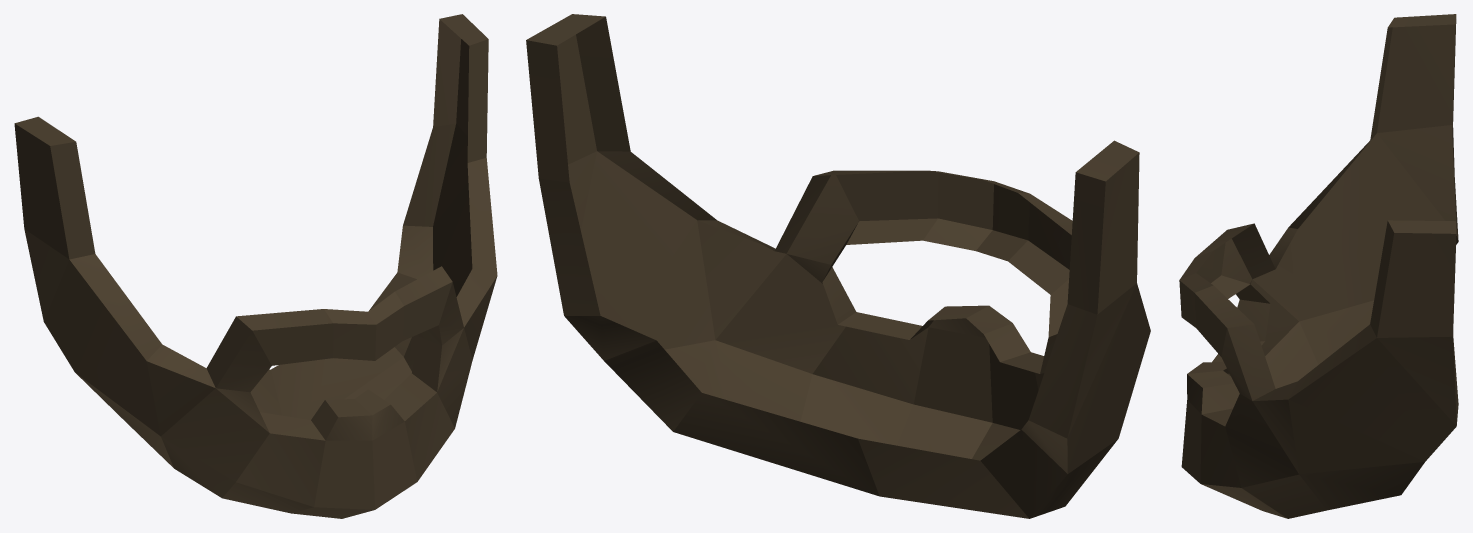
Rendered from Beard_01_SM.FBX.
The picture shows the model from 3 angles, left to right: view 1: azimuth 30°, elevation 25°; view 2: azimuth 150°, elevation 25°; view 3: azimuth 270°, elevation 25°; orthographic projection. The views are drawn at different scales.
Visible parts, largest first — view 1: Beard_01_SM; view 2: Beard_01_SM; view 3: Beard_01_SM.
Part boxes in pixels (box(x1,y1,x2,y2)): Beard_01_SM: box(14, 14, 497, 518); Beard_01_SM: box(526, 14, 1150, 518); Beard_01_SM: box(1179, 14, 1458, 518).
Size of what is drawn, in the model's own units: 19.66 by 10.55 by 15.75.
